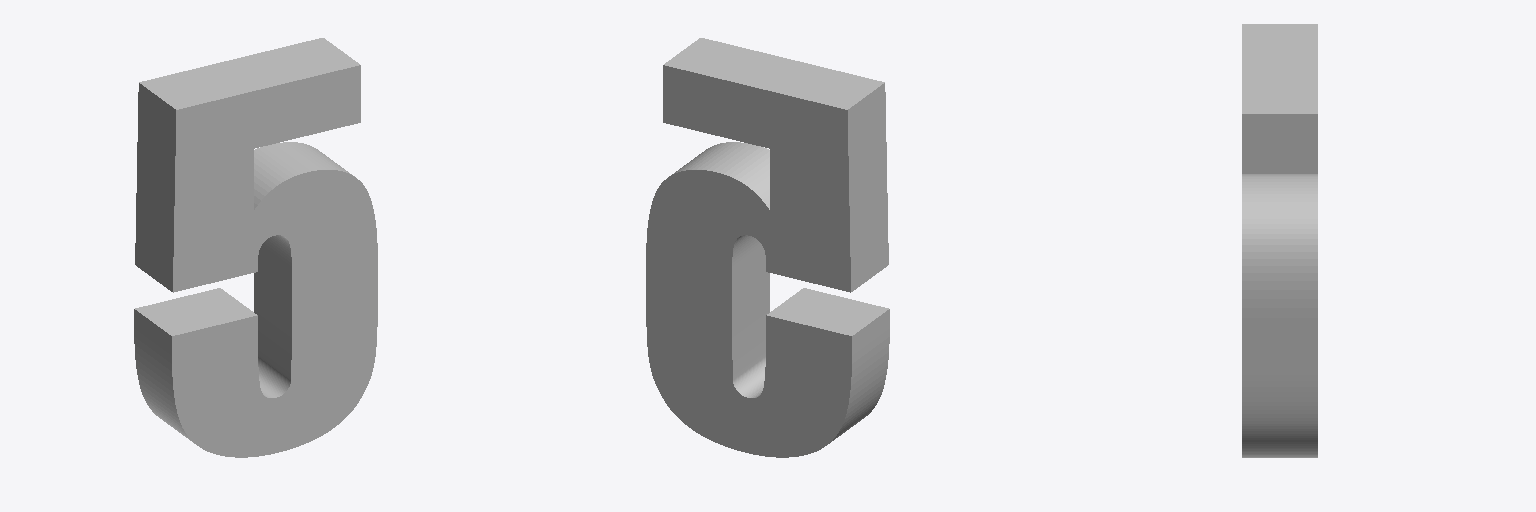
The picture shows the model from 3 angles: view 1: azimuth 30°, elevation 25°; view 2: azimuth 150°, elevation 25°; view 3: azimuth 270°, elevation 25°; orthographic projection.
Parts seen in each view (by area): view 1: テキスト; view 2: テキスト; view 3: テキスト.
Part boxes in pixels (left/top/right/bottom): テキスト: left=134, top=38, right=377, bottom=457; テキスト: left=646, top=38, right=889, bottom=457; テキスト: left=1242, top=24, right=1317, bottom=457.
Bounding box in the file's own units: 0.3151 × 0.5376 × 0.1.